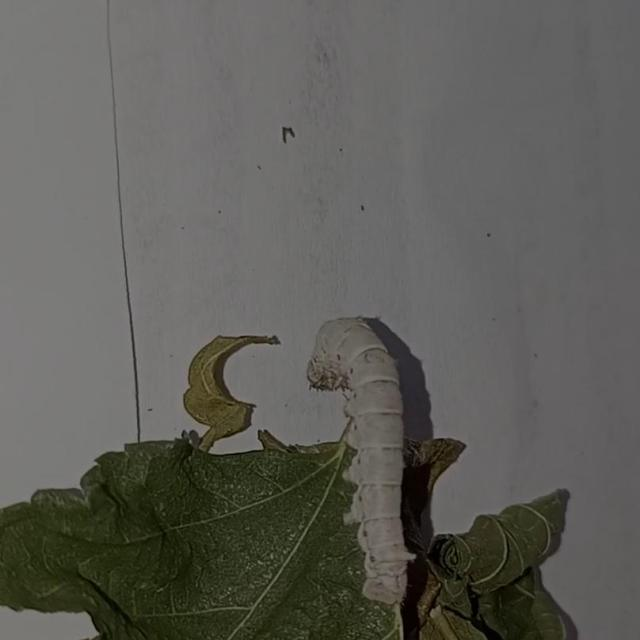Healthy: (292, 290, 449, 621)
